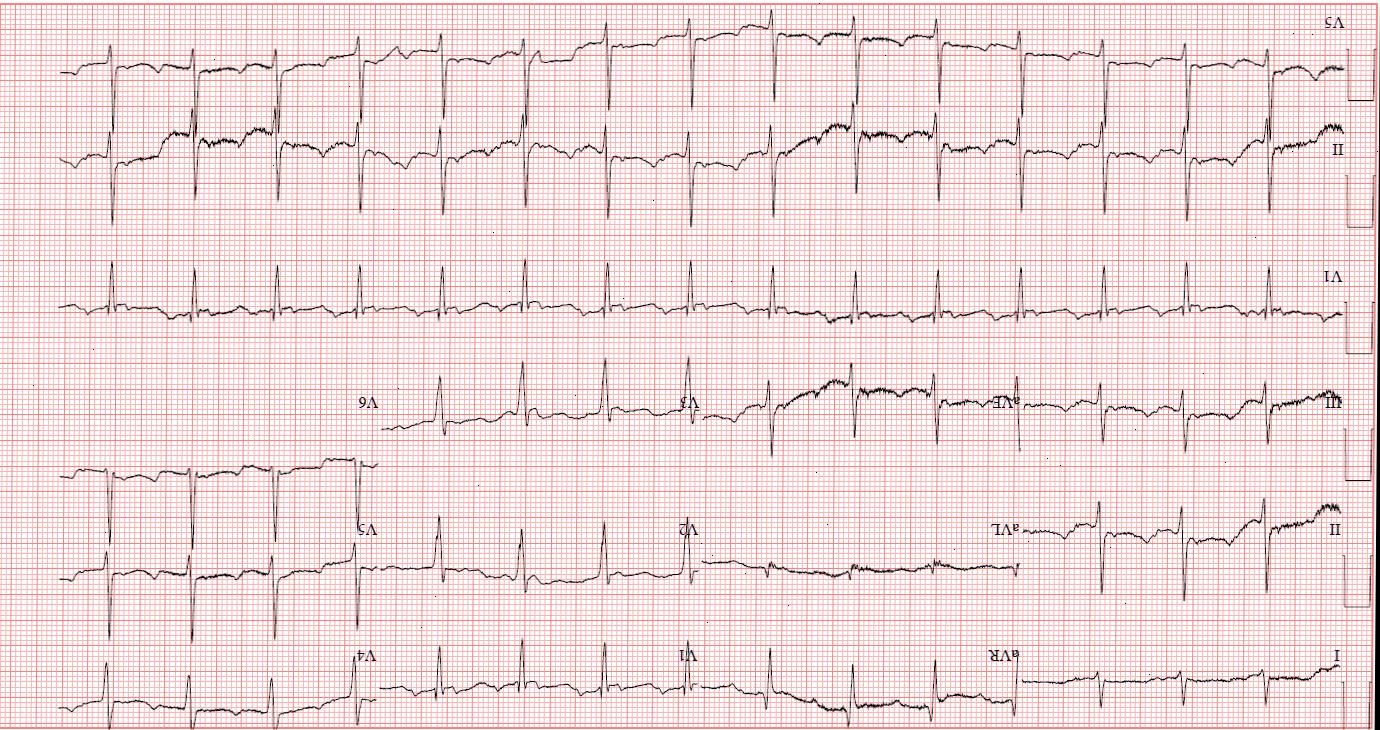Lead_I: (1022, 626, 1348, 729)
Lead_II: (1020, 494, 1344, 611)
Lead_III: (1023, 358, 1346, 480)
Lead_II_ext: (48, 101, 1351, 230)
Lead_V1: (378, 618, 708, 724)
Lead_V2: (377, 502, 705, 612)
Lead_V3: (378, 346, 702, 494)
Lead_V4: (54, 644, 379, 728)
Lead_V5: (50, 515, 382, 645)
Lead_V6: (47, 384, 385, 549)
Lead_aVF: (702, 358, 1024, 487)
Lead_aVL: (704, 503, 1023, 615)
Lead_aVR: (708, 623, 1024, 730)
